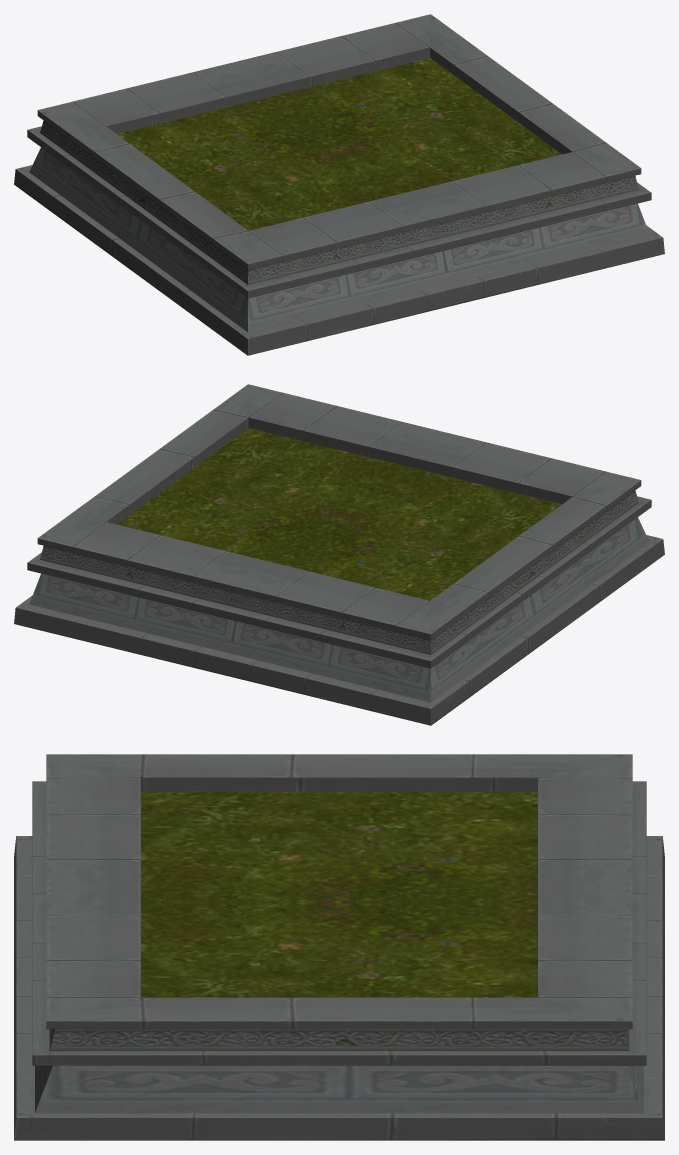
File: ZYthi_CLF_huatan01.FBX
The picture shows the model from 3 angles, top to bottom: view 1: azimuth 30°, elevation 25°; view 2: azimuth 150°, elevation 25°; view 3: azimuth 270°, elevation 25°; orthographic projection. The views are drawn at different scales.
Visible parts, largest first — view 1: ZYthi_CLF_huatan01; view 2: ZYthi_CLF_huatan01; view 3: ZYthi_CLF_huatan01.
Part boxes in pixels (left/top/right/bottom): ZYthi_CLF_huatan01: left=14, top=14, right=664, bottom=355; ZYthi_CLF_huatan01: left=14, top=384, right=664, bottom=725; ZYthi_CLF_huatan01: left=14, top=754, right=664, bottom=1140.
Size of the model in its own units: 737 by 135 by 716.
